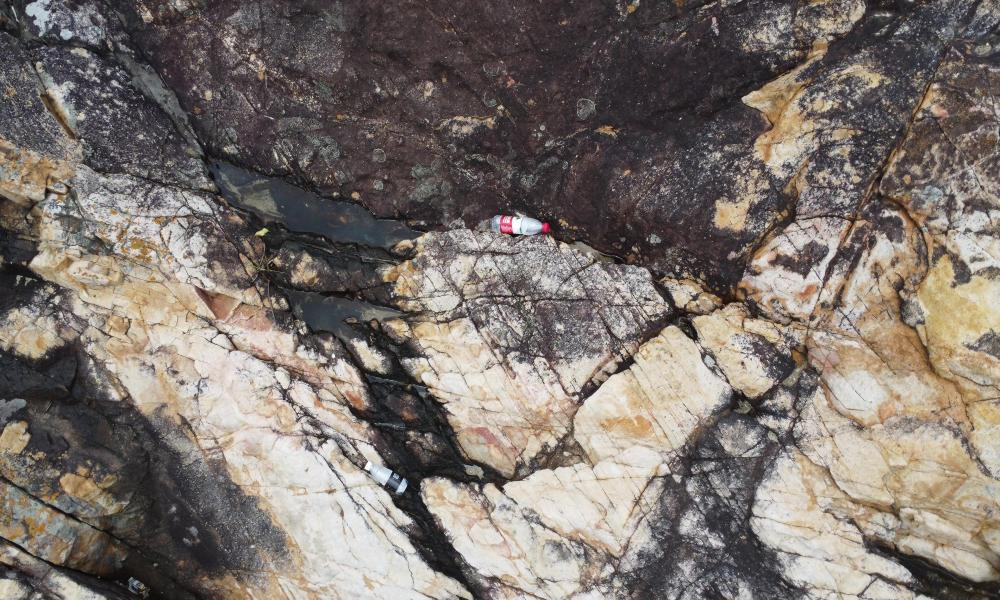plastic bottle: (487, 207, 550, 240)
